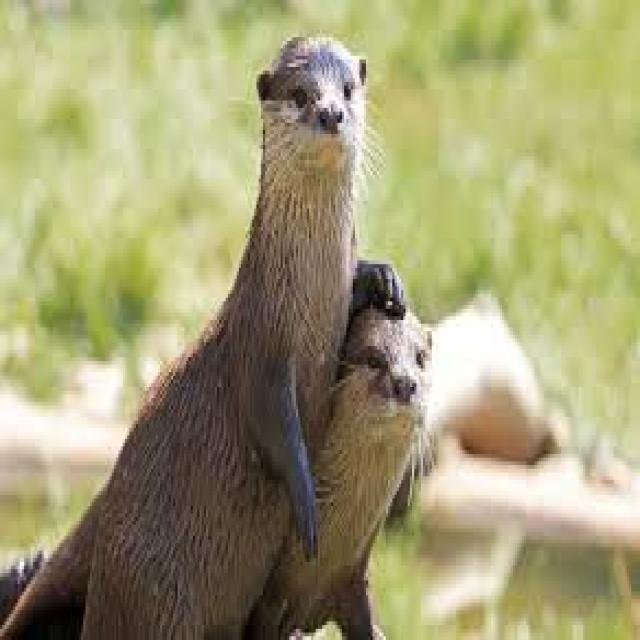Otter: (22, 30, 366, 640), (294, 307, 441, 626)
